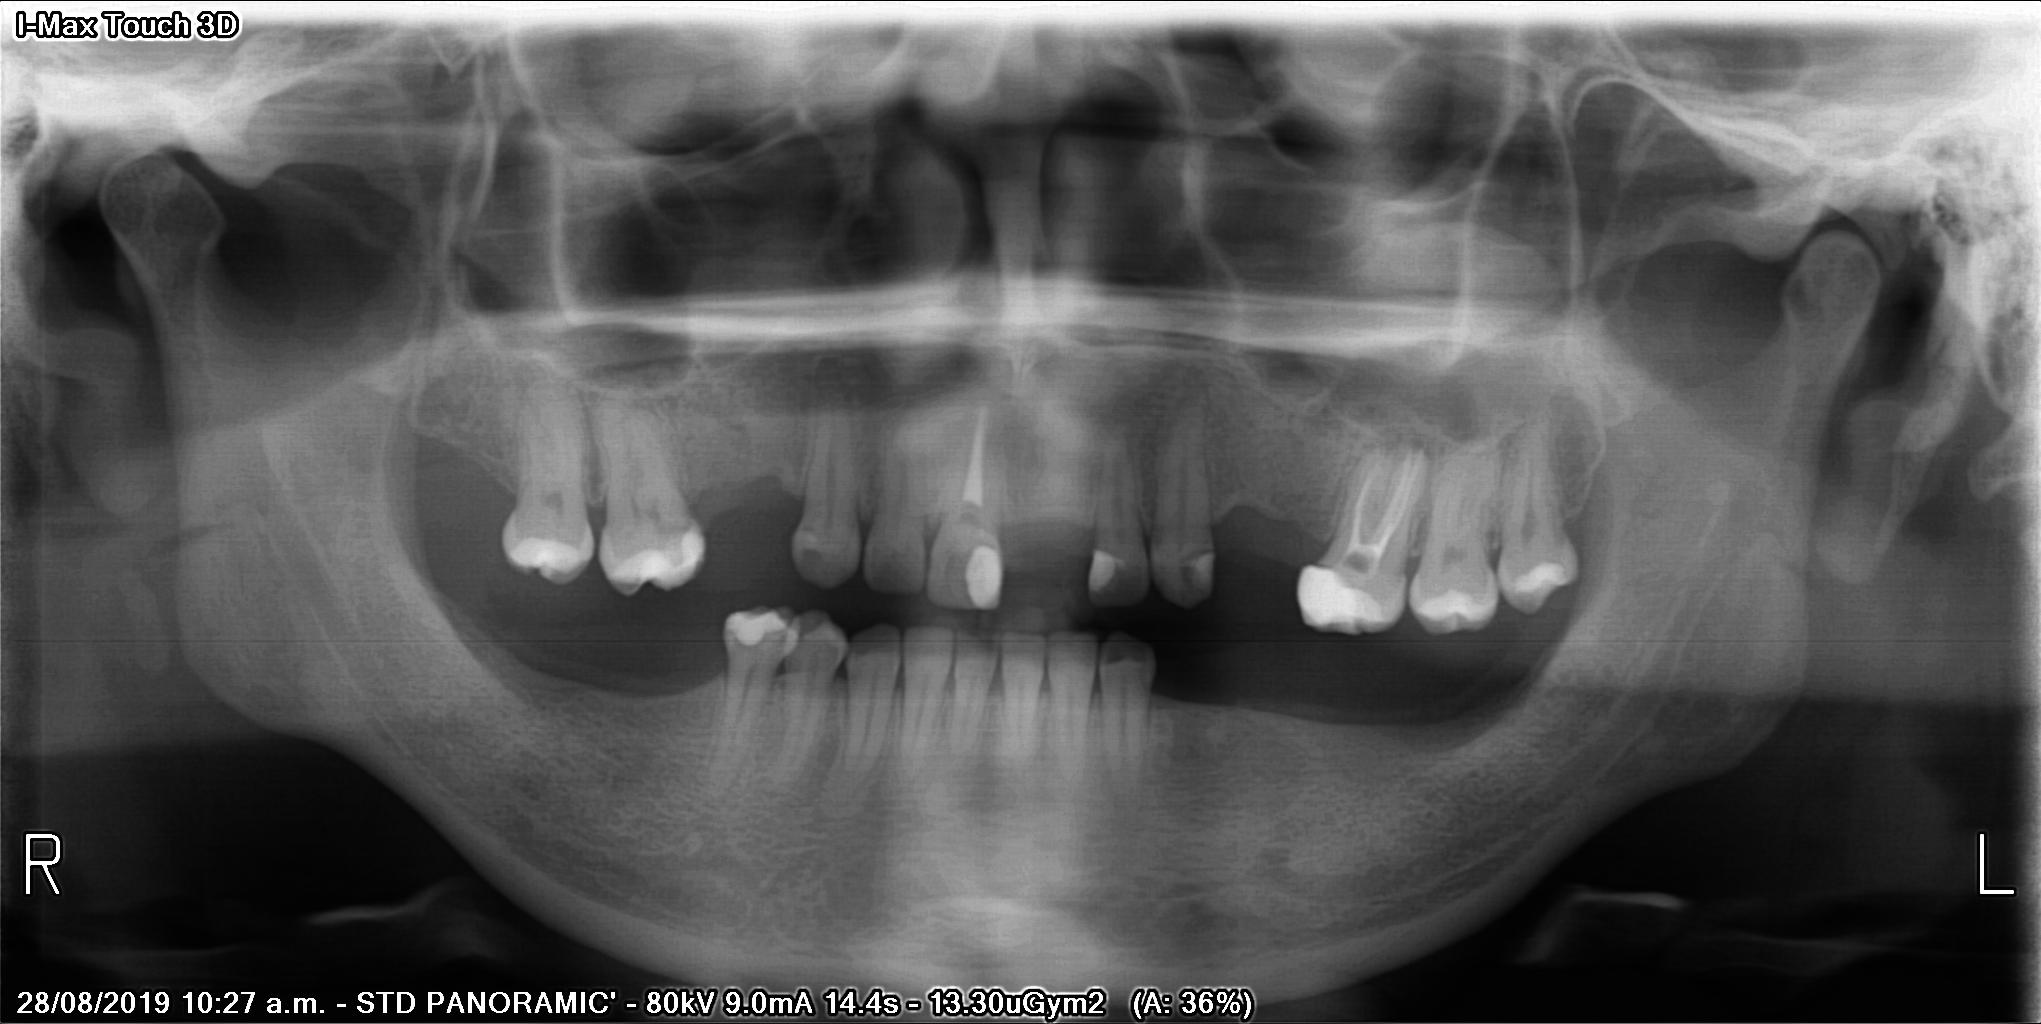Çürük: (605, 521, 708, 593), (1290, 559, 1367, 633), (1412, 580, 1502, 633), (508, 525, 590, 580), (713, 597, 790, 653), (964, 538, 1012, 614), (1504, 556, 1575, 600), (1195, 547, 1227, 593)
Çürük Bölgesi: (1183, 547, 1196, 598)
